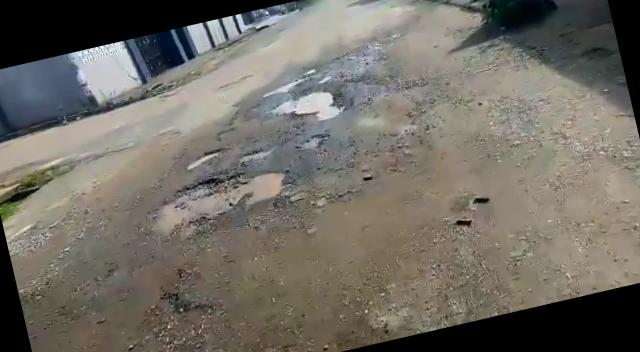pothole: (138, 158, 298, 238), (266, 84, 344, 132), (186, 147, 228, 171), (290, 132, 332, 154), (236, 146, 272, 164)
